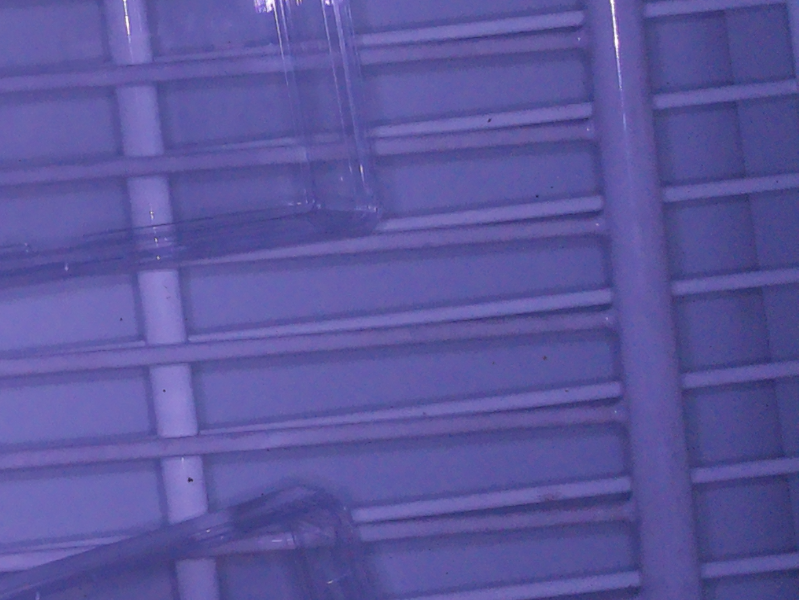plate: (1, 1, 384, 295), (1, 484, 382, 600)
